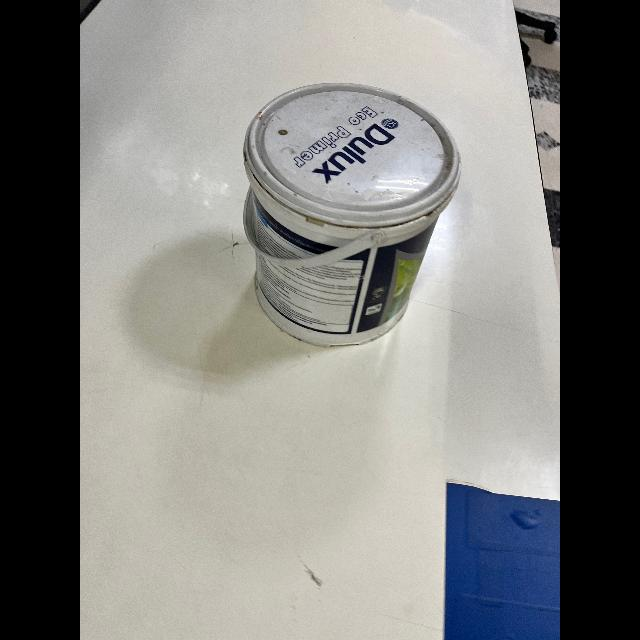paint_bucket: (227, 78, 466, 360)
